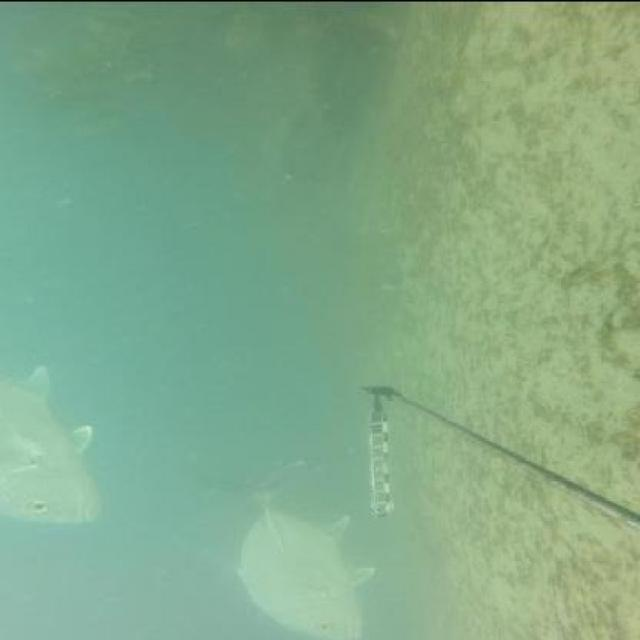Caranx: (210, 456, 376, 638), (0, 358, 105, 528)
